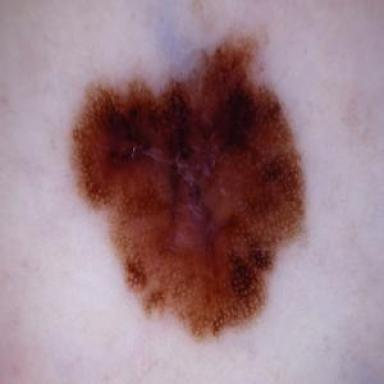Melanoma: (73, 37, 305, 338)
